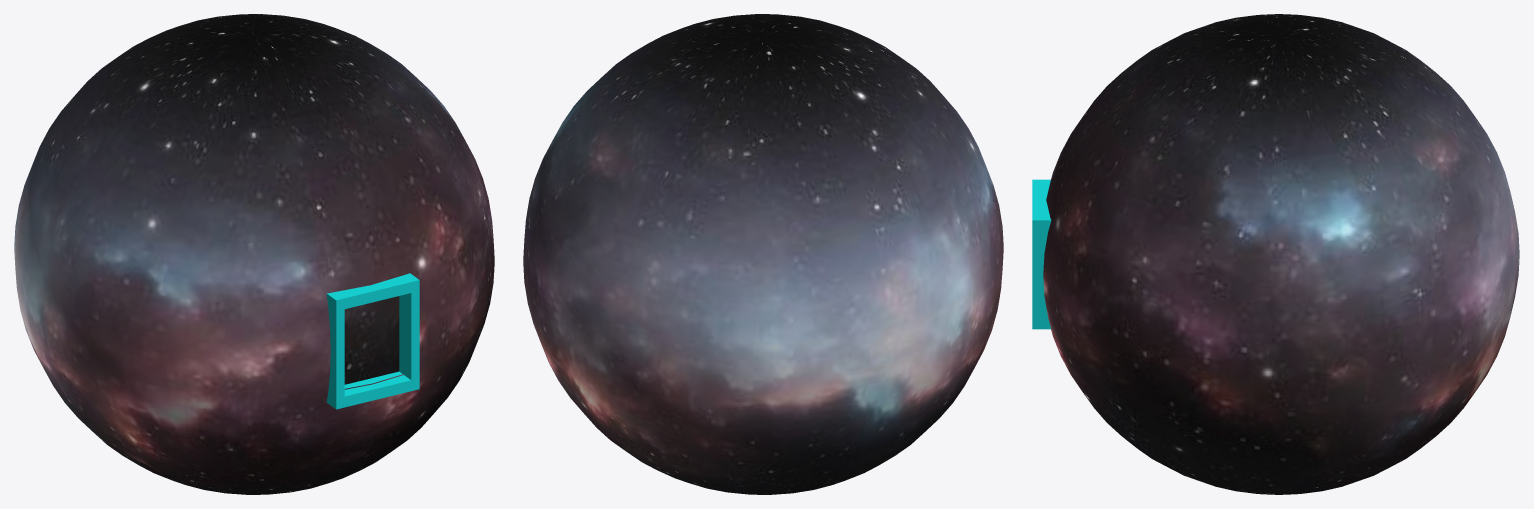
The model's file is portal.glb.
3 views of the same model, side by side, from view 1: azimuth 30°, elevation 25°; view 2: azimuth 150°, elevation 25°; view 3: azimuth 270°, elevation 25° (orthographic).
Parts seen in each view (by area): view 1: Sphere, Grid; view 2: Sphere; view 3: Sphere, Grid.
Boxes of the visible parts, left/top/right/bottom form: Sphere: left=14, top=14, right=494, bottom=494; Grid: left=326, top=273, right=419, bottom=409; Sphere: left=523, top=14, right=1003, bottom=494; Sphere: left=1043, top=14, right=1519, bottom=494; Grid: left=1032, top=179, right=1051, bottom=329.
Size of the model in its own units: 2 by 2 by 2.02.
Materials: 2 (1 with a texture image).
